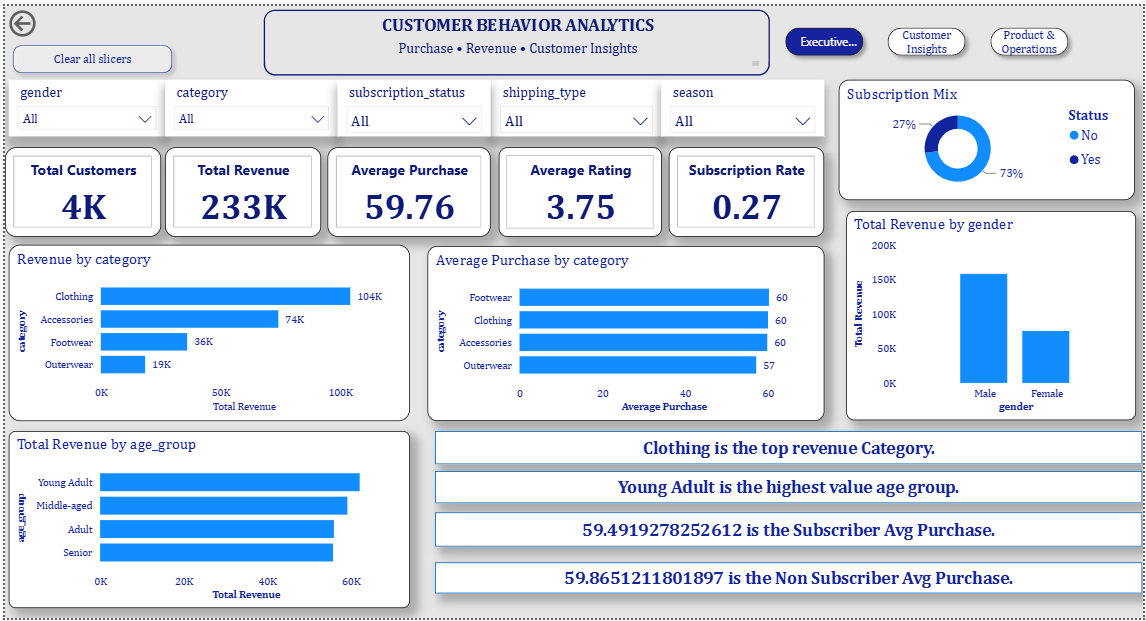

What the dashboard file says about the page in this screenshot:
{"tool":"powerbi","page":{"name":"Executive Overview","canvas":[1300,700],"ordinal":0},"visuals":[{"type":"textbox","box":[0,12.4,1499.4,102.9],"z":0},{"type":"textbox","title":"   CUSTOMER BEHAVIOR ANALYTICS ","box":[295,4,578,75],"z":1000},{"type":"slicer","fields":{"Values":["public customer.gender"]},"box":[3.8,85,178.8,65],"z":2000},{"type":"slicer","fields":{"Values":["public customer.category"]},"box":[182.5,85,197.5,65],"z":3000},{"type":"slicer","fields":{"Values":["public customer.shipping_type"]},"box":[555,85,195,65],"z":4000},{"type":"slicer","fields":{"Values":["public customer.subscription_status"]},"box":[380,85,175,65],"z":5000},{"type":"slicer","fields":{"Values":["public customer.season"]},"box":[750,85,186.2,65],"z":6000},{"type":"cardVisual","fields":{"Data":["Measures (2).Total Customers"]},"box":[0,161.2,178.8,102.5],"z":7000},{"type":"cardVisual","fields":{"Data":["Measures (2).Total Revenue"]},"box":[182.5,161.2,178.8,102.5],"z":8000},{"type":"cardVisual","fields":{"Data":["Measures (2).Average Purchase"]},"box":[368.8,161.2,186.2,102.5],"z":9000},{"type":"cardVisual","fields":{"Data":["Measures (2).Average Rating"]},"box":[563.8,161.2,186.2,102.5],"z":10000},{"type":"cardVisual","fields":{"Data":["Measures (2).Subscription Rate"]},"box":[758.8,161.2,177.5,102.5],"z":11000},{"type":"clusteredBarChart","title":"Revenue by category","fields":{"Category":["public customer.category"],"Y":["Measures (2).Total Revenue"]},"box":[3.8,272.5,458.8,201.2],"z":12000},{"type":"donutChart","title":" Subscription Mix","fields":{"Category":["public customer.subscription_status"],"Y":["Measures (2).Total Customers"]},"box":[952.5,85,338.8,137.5],"z":13000},{"type":"clusteredBarChart","fields":{"Category":["public customer.age_group"],"Y":["Measures (2).Total Revenue"]},"box":[3.8,486.2,458.8,202.5],"z":14000},{"type":"clusteredBarChart","fields":{"Y":["Measures (2).Average Purchase"],"Category":["public customer.category"]},"box":[482.5,273.8,453.8,200],"z":15000},{"type":"clusteredColumnChart","fields":{"Category":["public customer.gender"],"Y":["Measures (2).Total Revenue"]},"box":[960.7,234.5,331,239.3],"z":16000},{"type":"actionButton","box":[0,0,100,40],"z":17000},{"type":"shape","box":[491.7,485.7,808.3,38.1],"z":18000},{"type":"shape","box":[491.7,532.1,808.3,36.9],"z":19000},{"type":"shape","box":[491.7,578.6,808.3,39.3],"z":20000},{"type":"shape","box":[491.7,635.7,808.3,35.7],"z":21000},{"type":"pageNavigator","box":[883,16,341,50],"z":22000},{"type":"actionButton","box":[0,35,200,50],"z":22001}]}

Visuals, with their boxes in screenshot pixels (x1, y1, x2, y2), scaled from the page's 1300x700 canvas onto the 1146x621 screenshot:
textbox: [x1=0, y1=11, x2=1145, y2=102]
"   CUSTOMER BEHAVIOR ANALYTICS " textbox: [x1=260, y1=4, x2=770, y2=70]
slicer - public customer.gender: [x1=3, y1=75, x2=161, y2=133]
slicer - public customer.category: [x1=161, y1=75, x2=335, y2=133]
slicer - public customer.shipping_type: [x1=489, y1=75, x2=661, y2=133]
slicer - public customer.subscription_status: [x1=335, y1=75, x2=489, y2=133]
slicer - public customer.season: [x1=661, y1=75, x2=825, y2=133]
cardVisual - Measures (2).Total Customers: [x1=0, y1=143, x2=158, y2=234]
cardVisual - Measures (2).Total Revenue: [x1=161, y1=143, x2=318, y2=234]
cardVisual - Measures (2).Average Purchase: [x1=325, y1=143, x2=489, y2=234]
cardVisual - Measures (2).Average Rating: [x1=497, y1=143, x2=661, y2=234]
cardVisual - Measures (2).Subscription Rate: [x1=669, y1=143, x2=825, y2=234]
"Revenue by category" clusteredBarChart: [x1=3, y1=242, x2=408, y2=420]
" Subscription Mix" donutChart: [x1=840, y1=75, x2=1138, y2=197]
clusteredBarChart - public customer.age_group x Measures (2).Total Revenue: [x1=3, y1=431, x2=408, y2=611]
clusteredBarChart - Measures (2).Average Purchase x public customer.category: [x1=425, y1=243, x2=825, y2=420]
clusteredColumnChart - public customer.gender x Measures (2).Total Revenue: [x1=847, y1=208, x2=1139, y2=420]
actionButton: [x1=0, y1=0, x2=88, y2=35]
shape: [x1=433, y1=431, x2=1145, y2=465]
shape: [x1=433, y1=472, x2=1145, y2=505]
shape: [x1=433, y1=513, x2=1145, y2=548]
shape: [x1=433, y1=564, x2=1145, y2=596]
pageNavigator: [x1=778, y1=14, x2=1079, y2=59]
actionButton: [x1=0, y1=31, x2=176, y2=75]
